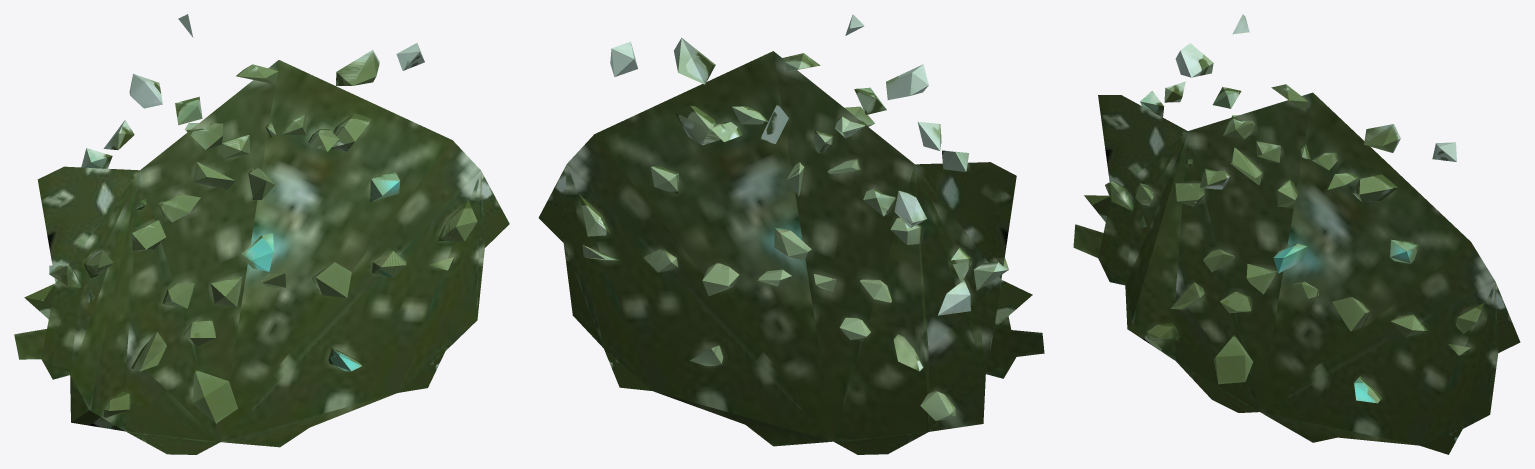
File: v-fleurs-blanc-semis.glb
3 renders of one model, left to right at view 1: azimuth 30°, elevation 25°; view 2: azimuth 150°, elevation 25°; view 3: azimuth 330°, elevation 25°, orthographic. The views are drawn at different scales.
Visible parts, largest first — view 1: v-fleurs-blanc-semis; view 2: v-fleurs-blanc-semis; view 3: v-fleurs-blanc-semis.
Part boxes in pixels (x1=…): v-fleurs-blanc-semis: x1=14, y1=14, x2=509, y2=454; v-fleurs-blanc-semis: x1=538, y1=14, x2=1044, y2=454; v-fleurs-blanc-semis: x1=1073, y1=14, x2=1520, y2=454.
Bounding box in the file's own units: 1.93 × 1.68 × 0.2564.
Materials: 1 (1 with a texture image).
